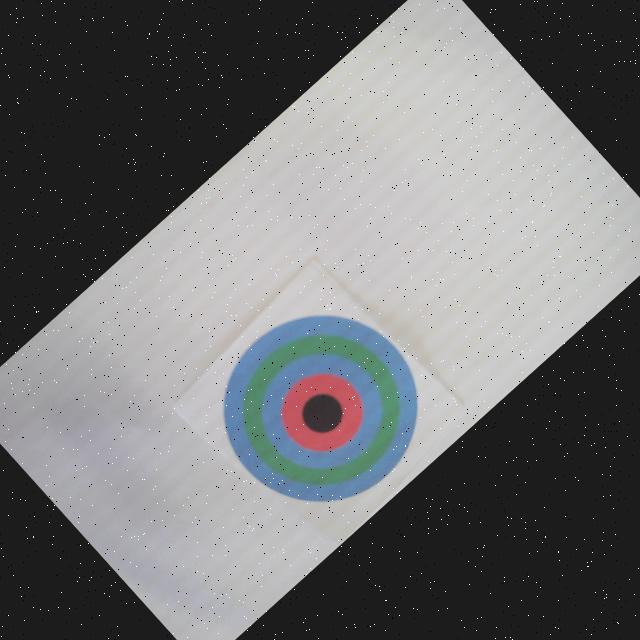COGNITIVE: (185, 272, 456, 542)
